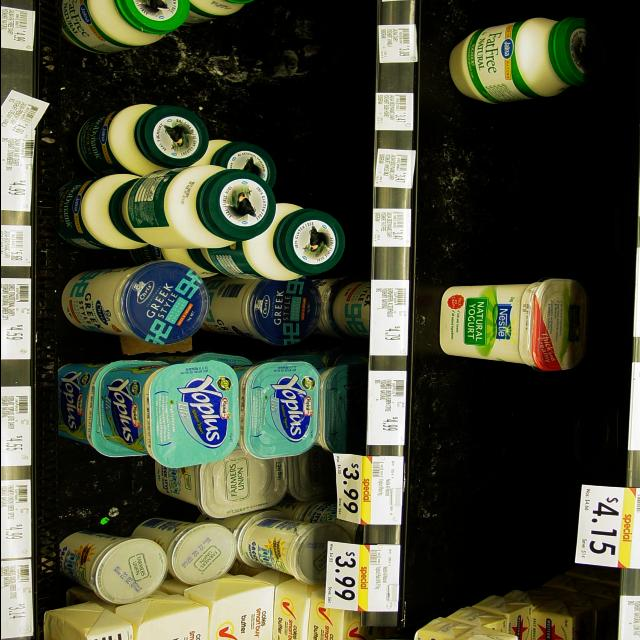empty_space: (429, 106, 621, 275), (408, 377, 572, 566), (60, 47, 324, 105), (48, 464, 133, 520)
